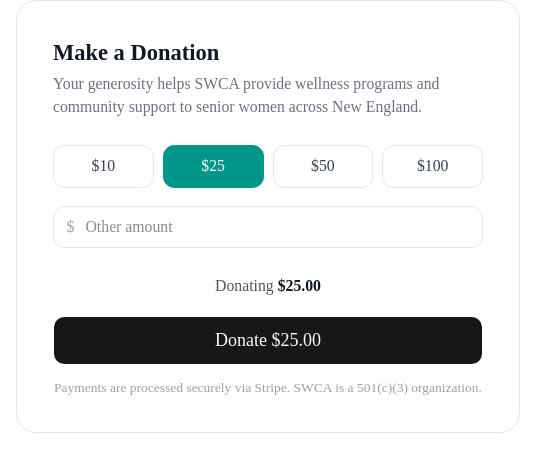
Test: DonationForm › selecting a different preset updates the donate button
Click the button "$50": (323, 166) 272,145 -> 373,188
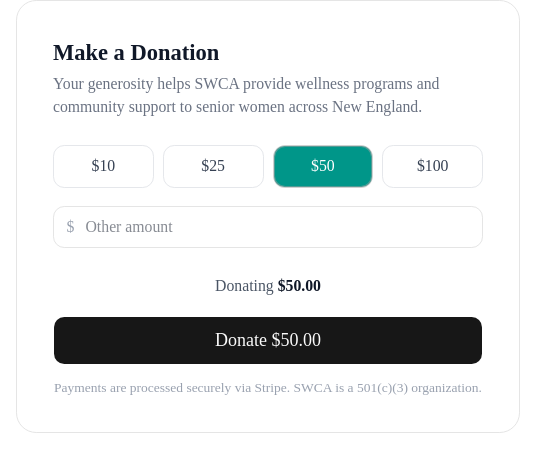
Expected: the button "Donate $50.00" is shown, 53,316 -> 483,365
